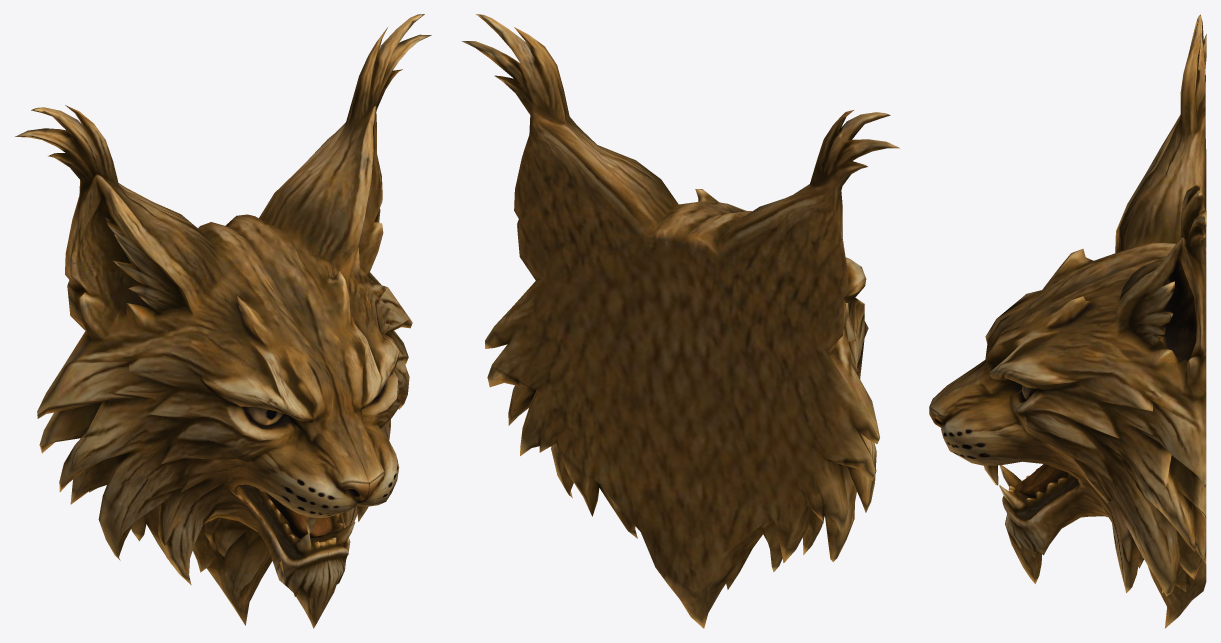
Rendered from carved-lynx-head.glb.
3 views of the same model, side by side, from view 1: azimuth 30°, elevation 25°; view 2: azimuth 150°, elevation 25°; view 3: azimuth 270°, elevation 25° (orthographic). The views are drawn at different scales.
Parts seen in each view (by area): view 1: geometry_0; view 2: geometry_0; view 3: geometry_0.
Boxes of the visible parts, bbox=[...] form: geometry_0: bbox=[15, 14, 431, 628]; geometry_0: bbox=[461, 14, 899, 628]; geometry_0: bbox=[929, 14, 1206, 628].
Bounding box in the file's own units: 0.794 × 1 × 0.4796.
Materials: 1 (1 with a texture image).
